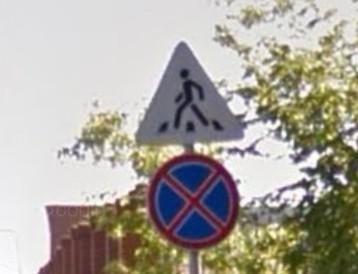No Parking: (148, 153, 242, 251)
